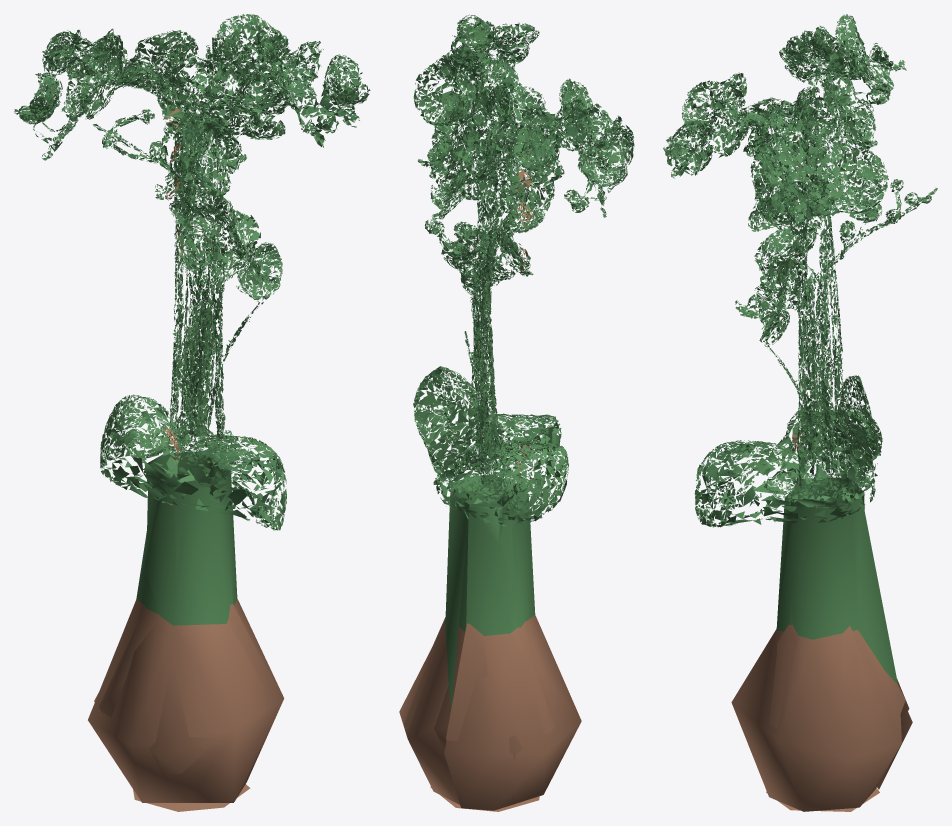
Rendered from ergoflex-plant-1.glb.
3 views of the same model, side by side, from view 1: azimuth 30°, elevation 25°; view 2: azimuth 150°, elevation 25°; view 3: azimuth 270°, elevation 25° (orthographic). The views are drawn at different scales.
Visible parts, largest first — view 1: Planter and foliage 1, Planter and foliage 34, Planter and foliage 0, Planter and foliage 2; view 2: Planter and foliage 1, Planter and foliage 34, Planter and foliage 0, Planter and foliage 2; view 3: Planter and foliage 1, Planter and foliage 34, Planter and foliage 0, Planter and foliage 2.
Part boxes in pixels (x1,y1,x2,y2): Planter and foliage 1: (14, 14, 362, 625); Planter and foliage 34: (88, 598, 284, 811); Planter and foliage 0: (19, 14, 368, 523); Planter and foliage 2: (16, 16, 370, 530); Planter and foliage 1: (413, 14, 633, 709); Planter and foliage 34: (399, 615, 581, 811); Planter and foliage 0: (413, 15, 634, 521); Planter and foliage 2: (413, 18, 633, 521); Planter and foliage 1: (667, 14, 930, 684); Planter and foliage 34: (731, 624, 912, 811); Planter and foliage 0: (665, 15, 937, 526); Planter and foliage 2: (663, 16, 936, 527).
Bounding box in the file's own units: 0.5124 × 1.45 × 0.4942.
